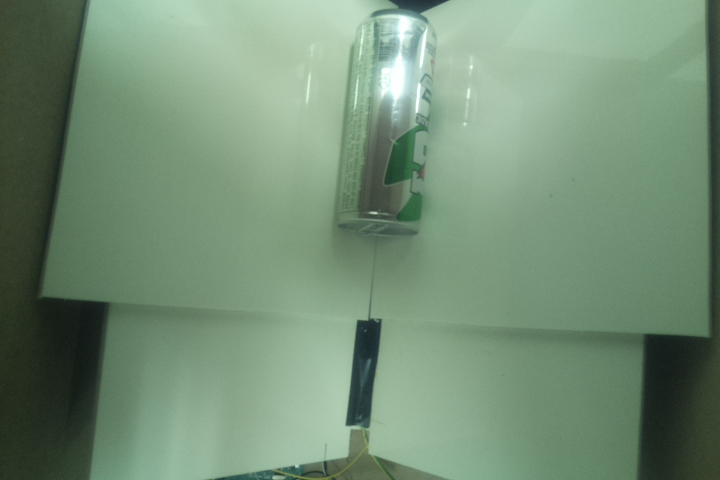can: (331, 8, 439, 242)
